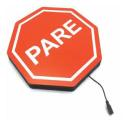Pare: (6, 5, 104, 93)
